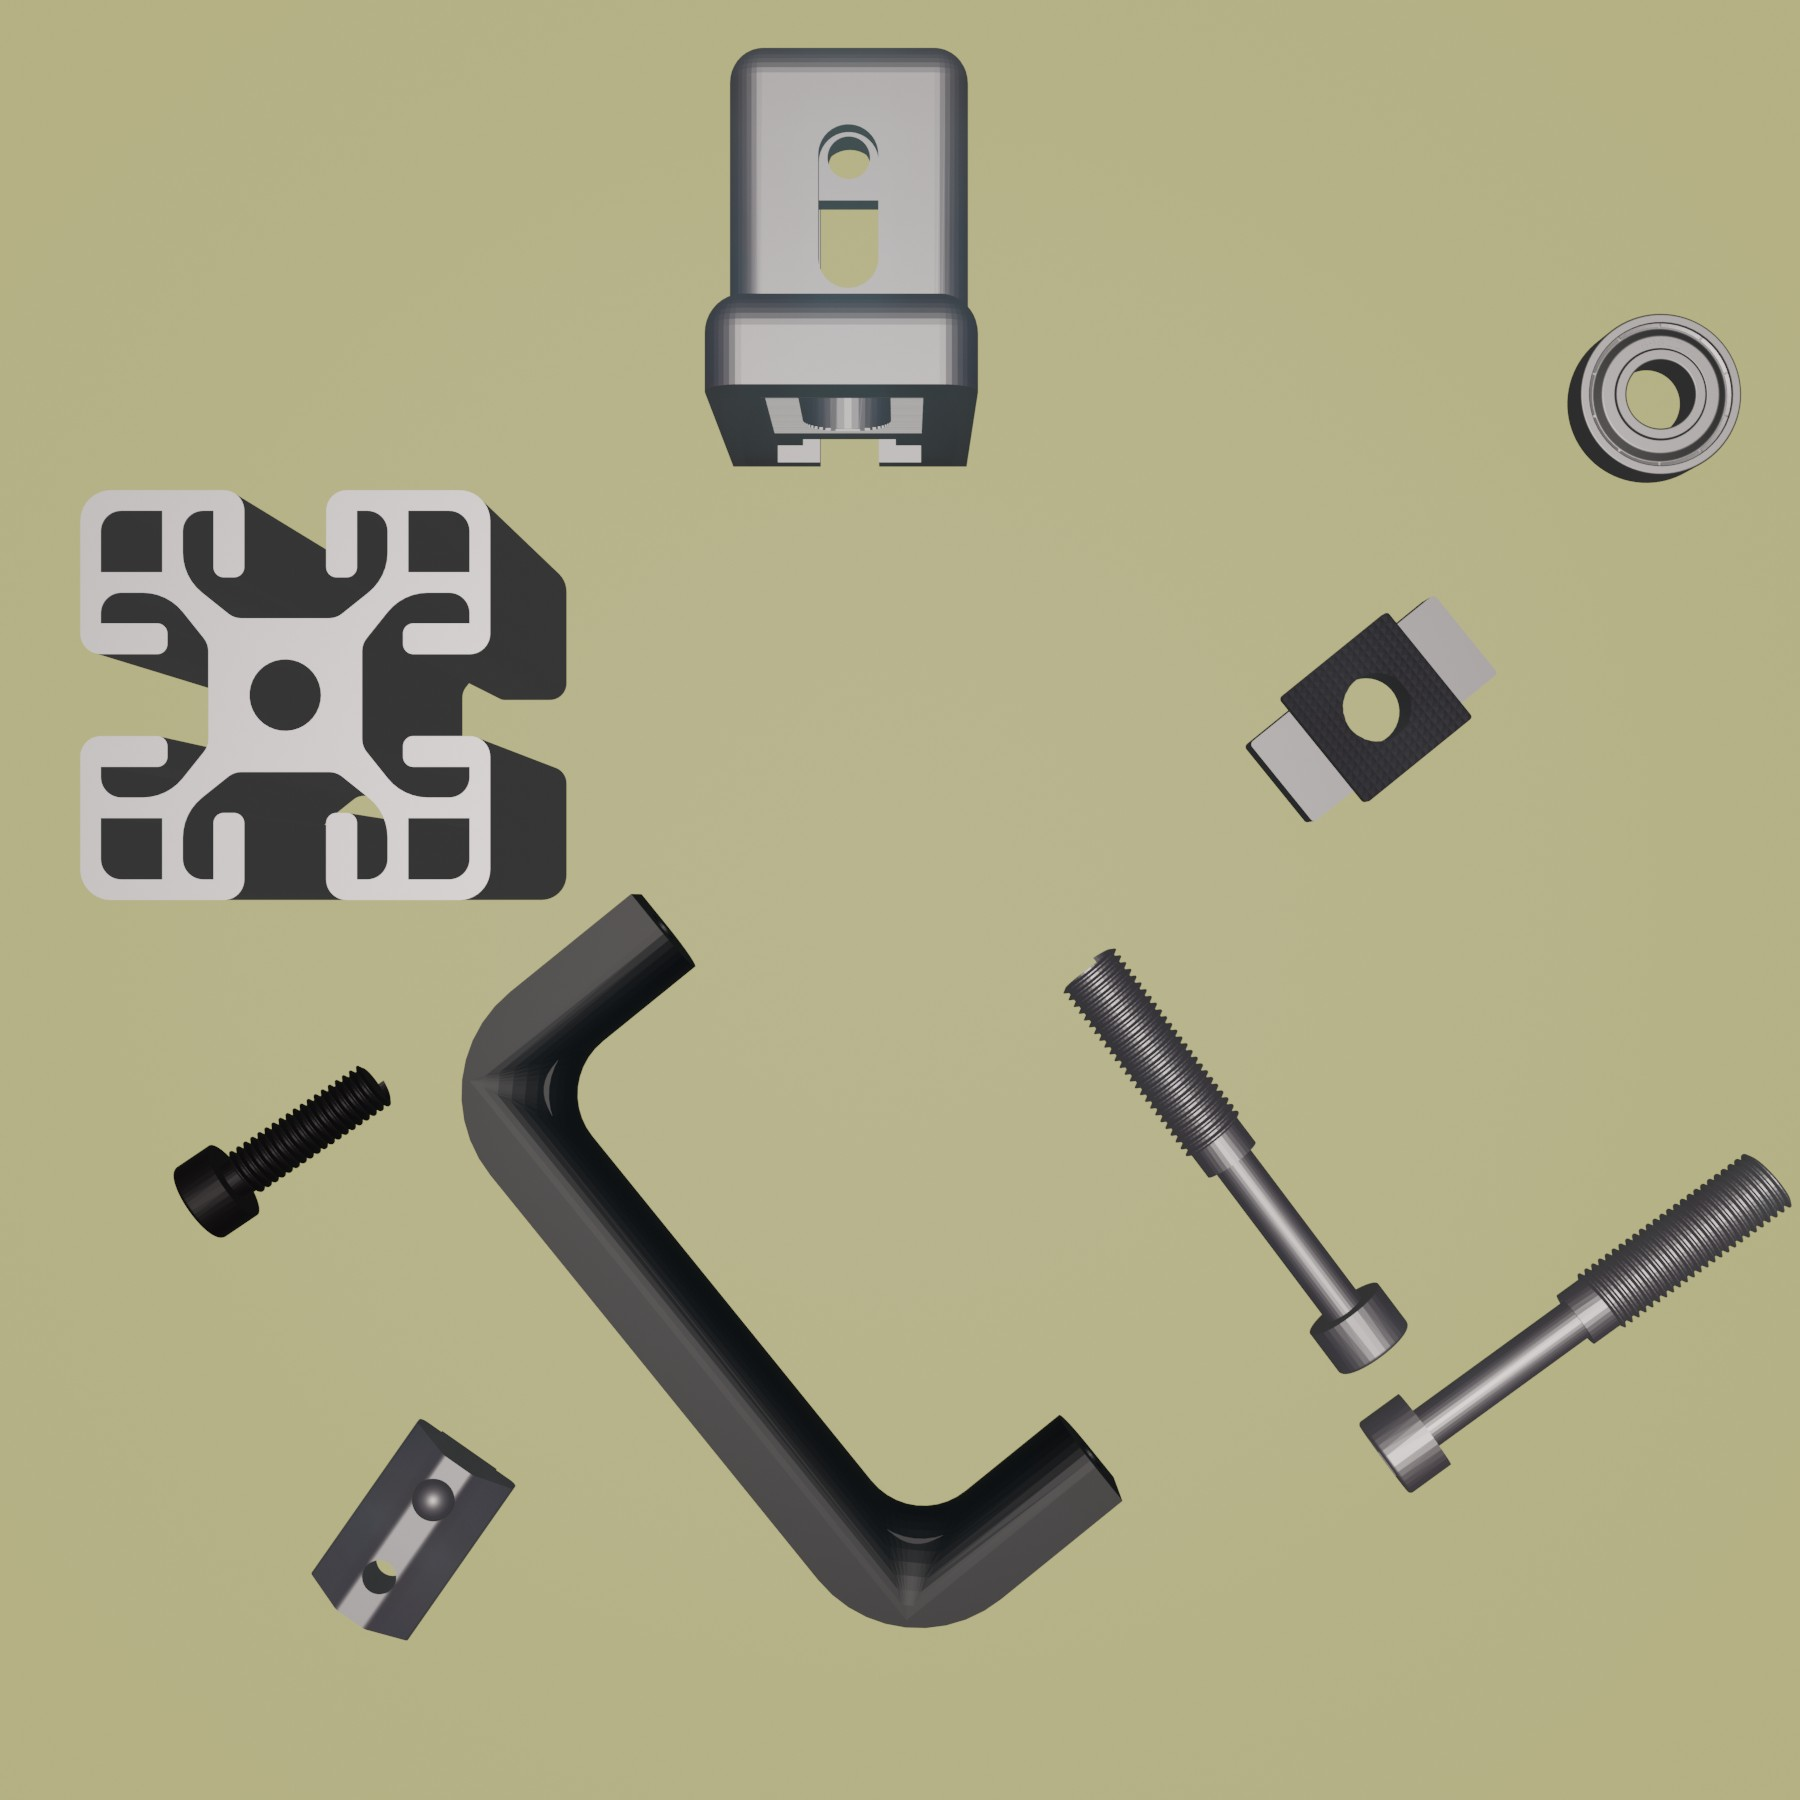Aluminium Extension: (76, 486, 570, 908)
Ball Bearing: (1566, 312, 1746, 486)
Multiwinkel: (702, 41, 982, 471)
Pull Handle: (457, 892, 1124, 1630)
Shoulder Socket Head Cap Screw: (1357, 1147, 1793, 1495), (1058, 948, 1409, 1376)
Socket Head Cap Screw: (171, 1062, 394, 1240)
T Nut Square: (1241, 588, 1505, 826)
T Spring Nut: (308, 1418, 518, 1642)
